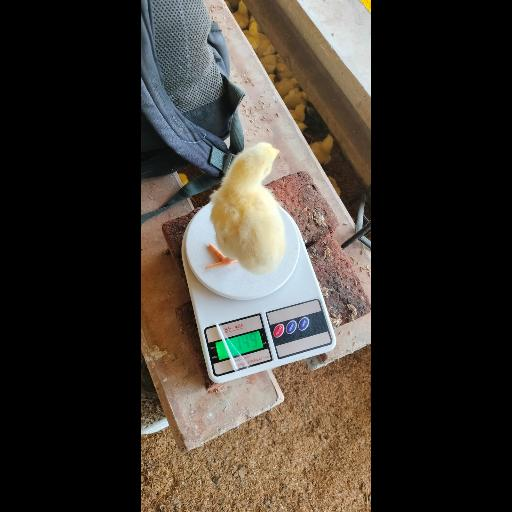chick: (205, 143, 285, 275)
